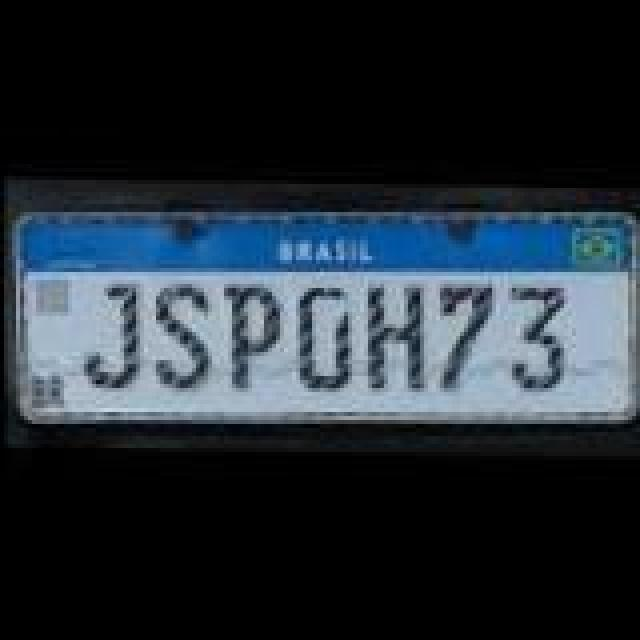3: (500, 282, 580, 398)
7: (440, 280, 496, 396)
D: (296, 278, 352, 394)
H: (364, 280, 428, 396)
J: (84, 276, 140, 388)
P: (224, 278, 288, 390)
S: (152, 280, 216, 388)
